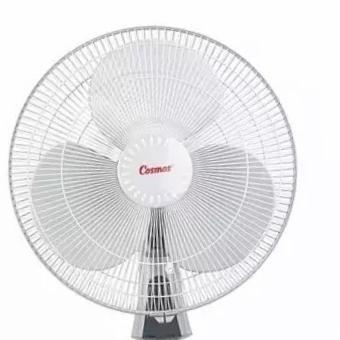fan: (8, 16, 300, 340)
